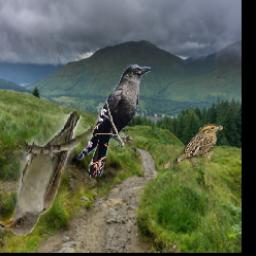Crow: (78, 65, 152, 178)
Cuckoo: (0, 90, 93, 237)
Sparrow: (163, 124, 223, 169)
